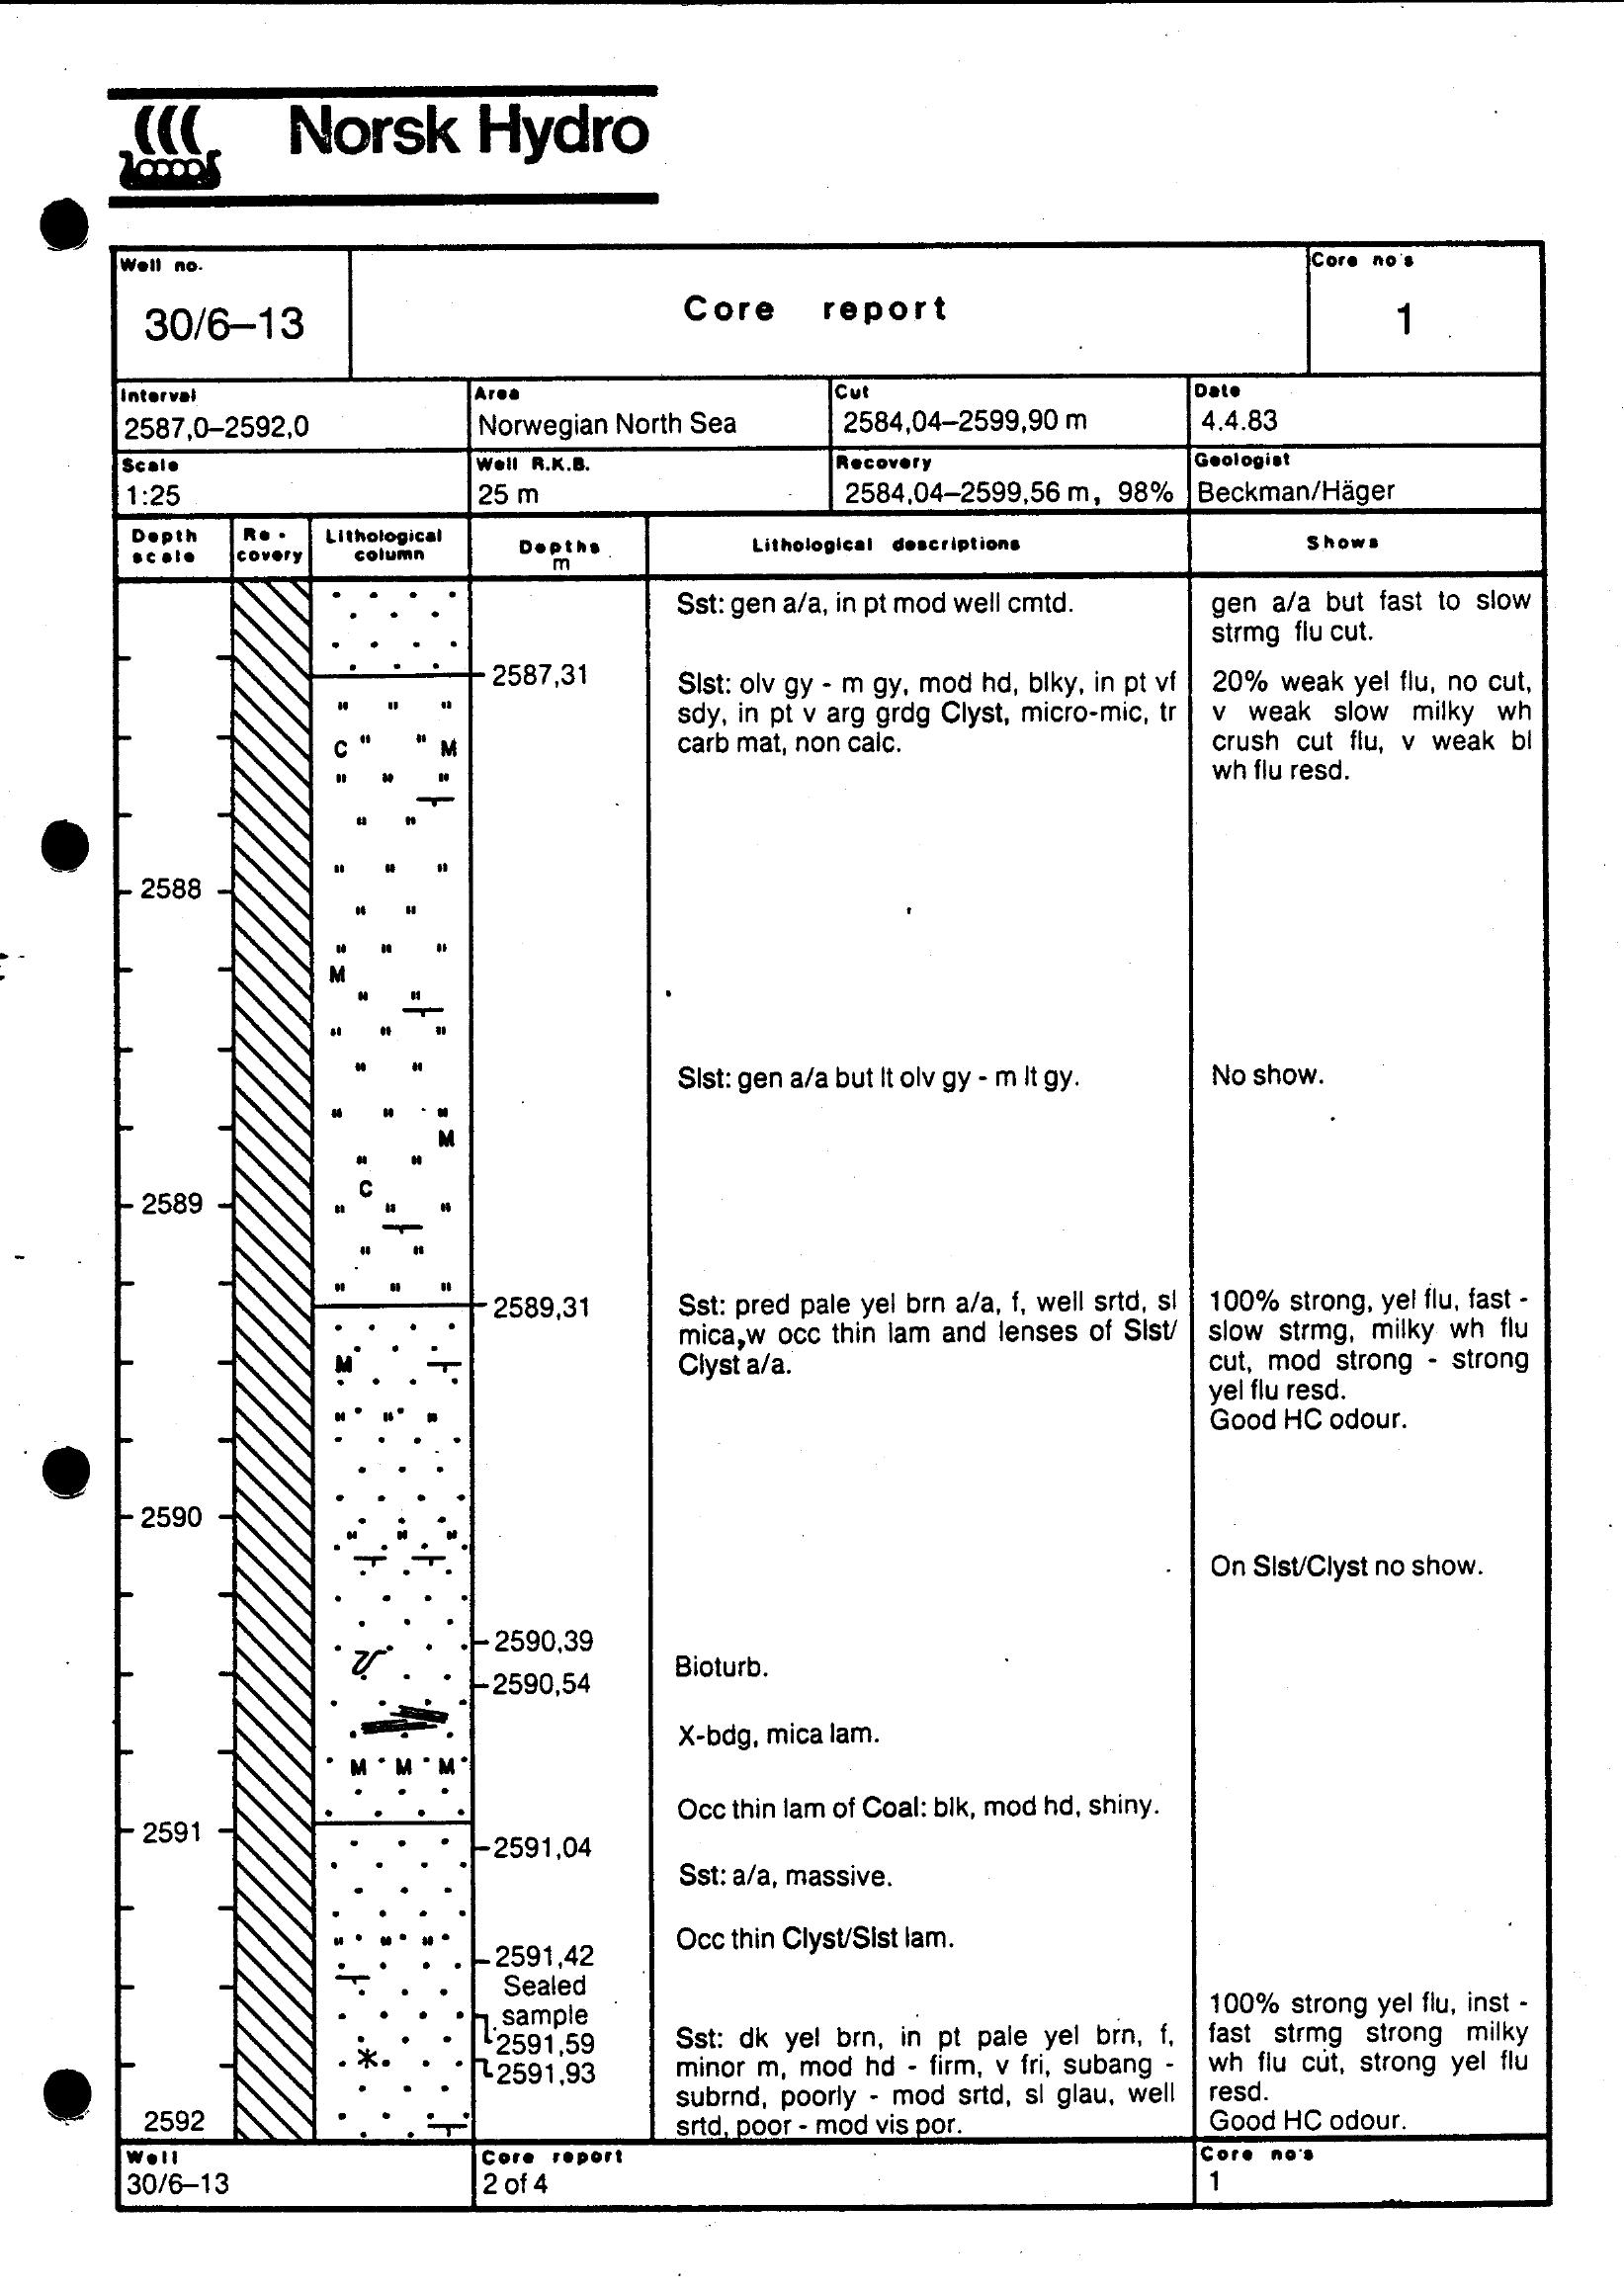graph: (102, 239, 1571, 2228)
undefined: (93, 60, 678, 218)
